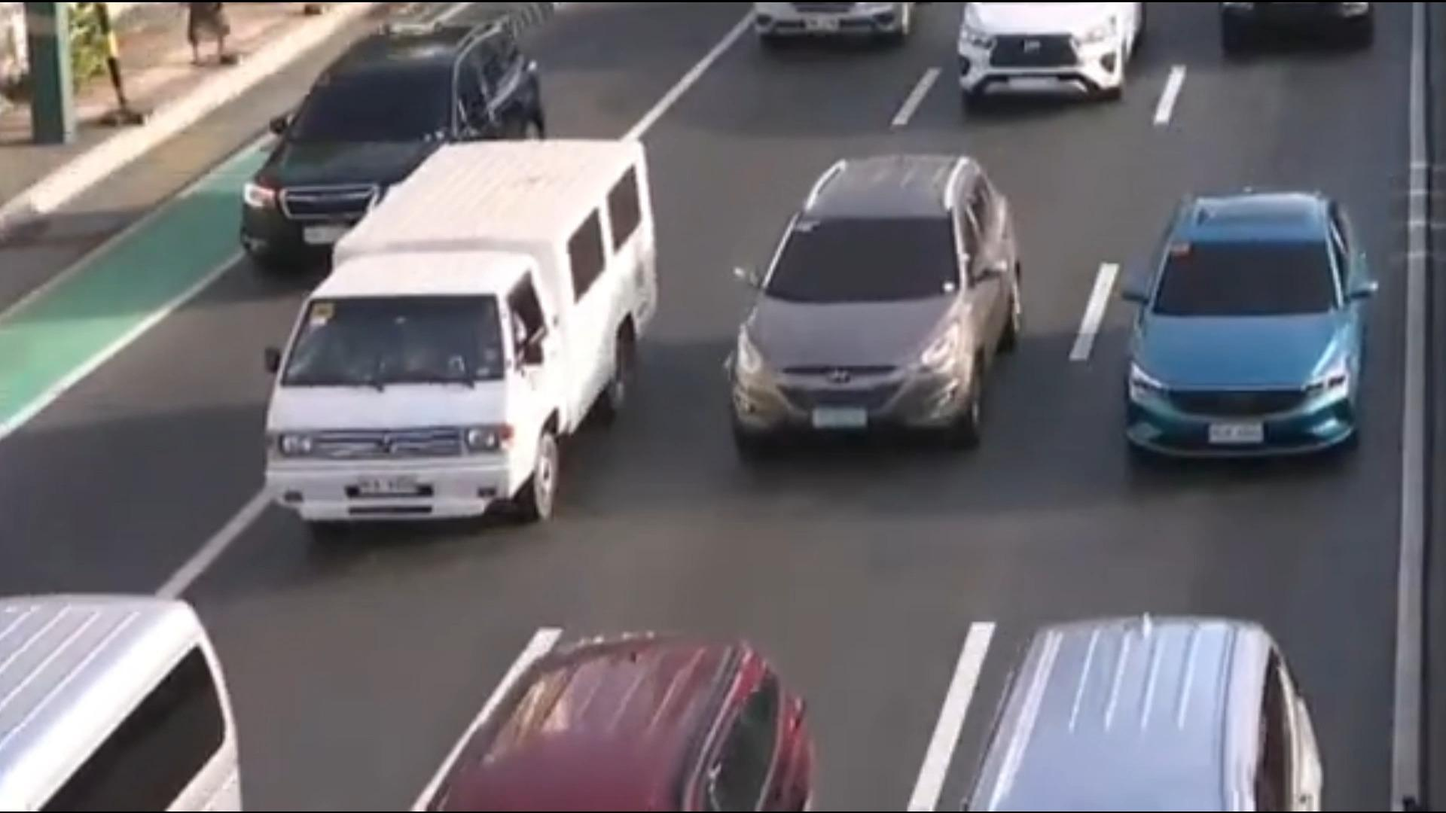Multicab: (238, 128, 671, 547)
SUV: (715, 138, 1061, 472), (223, 14, 562, 285)
Sedan: (1100, 176, 1399, 490)
